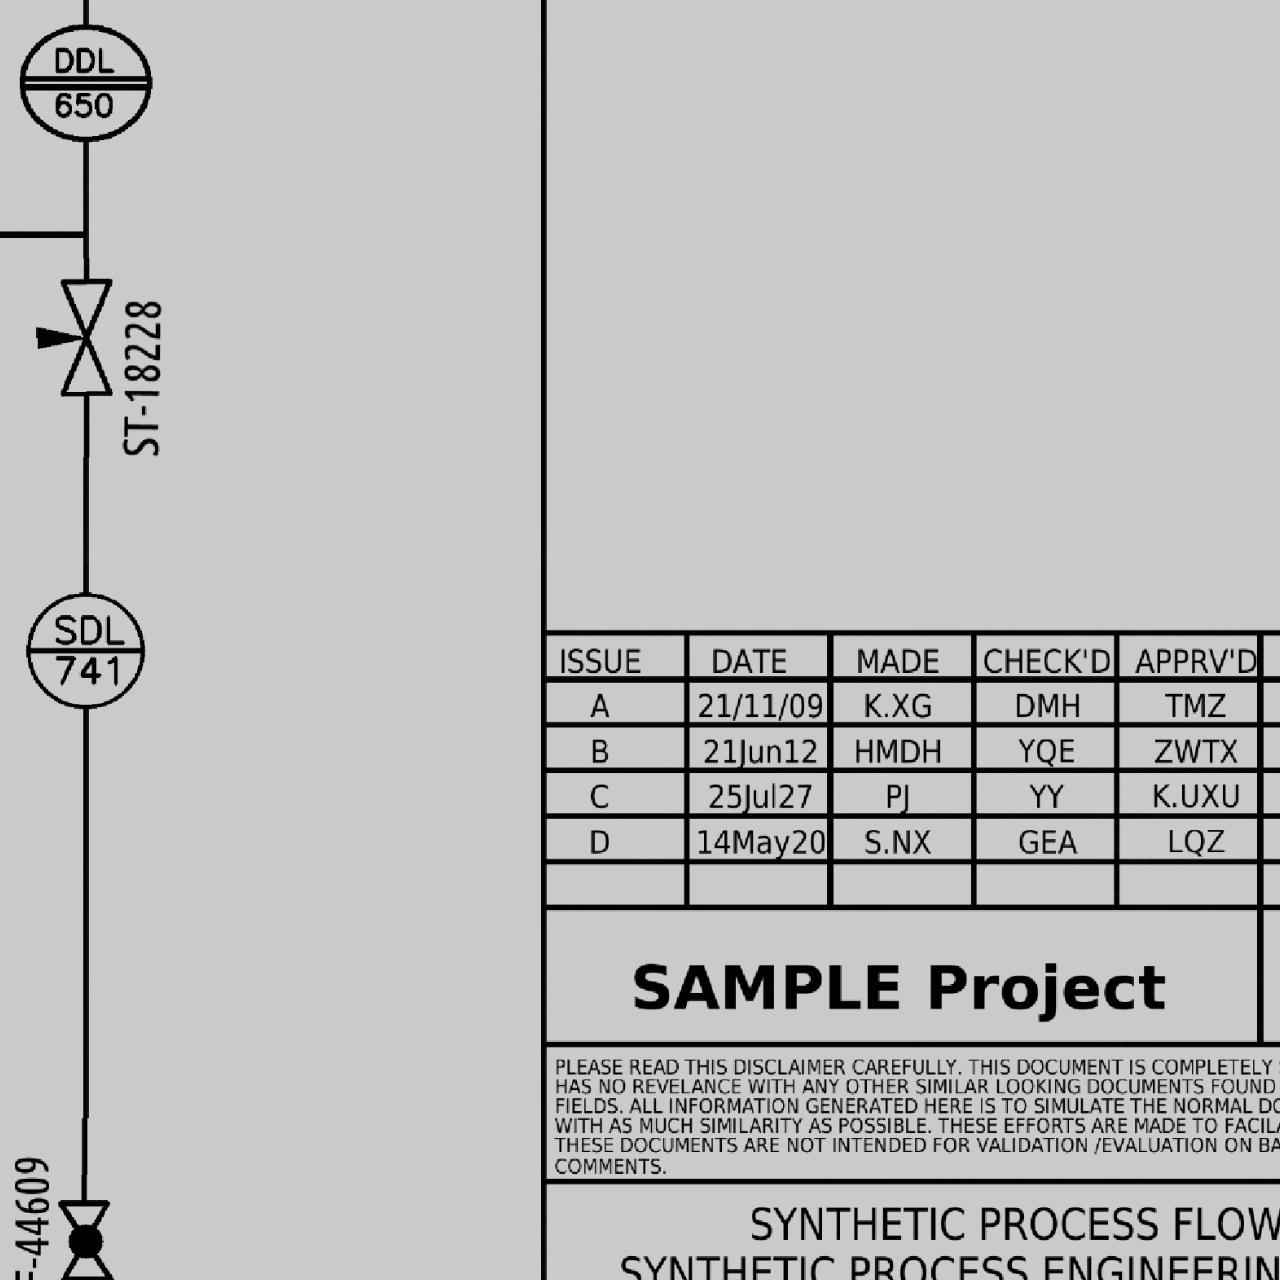Control-Panel: (14, 12, 154, 152)
